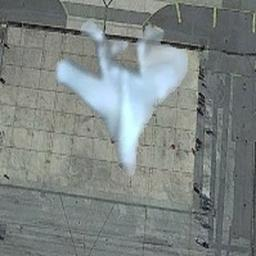Airplane: (53, 16, 193, 184)
